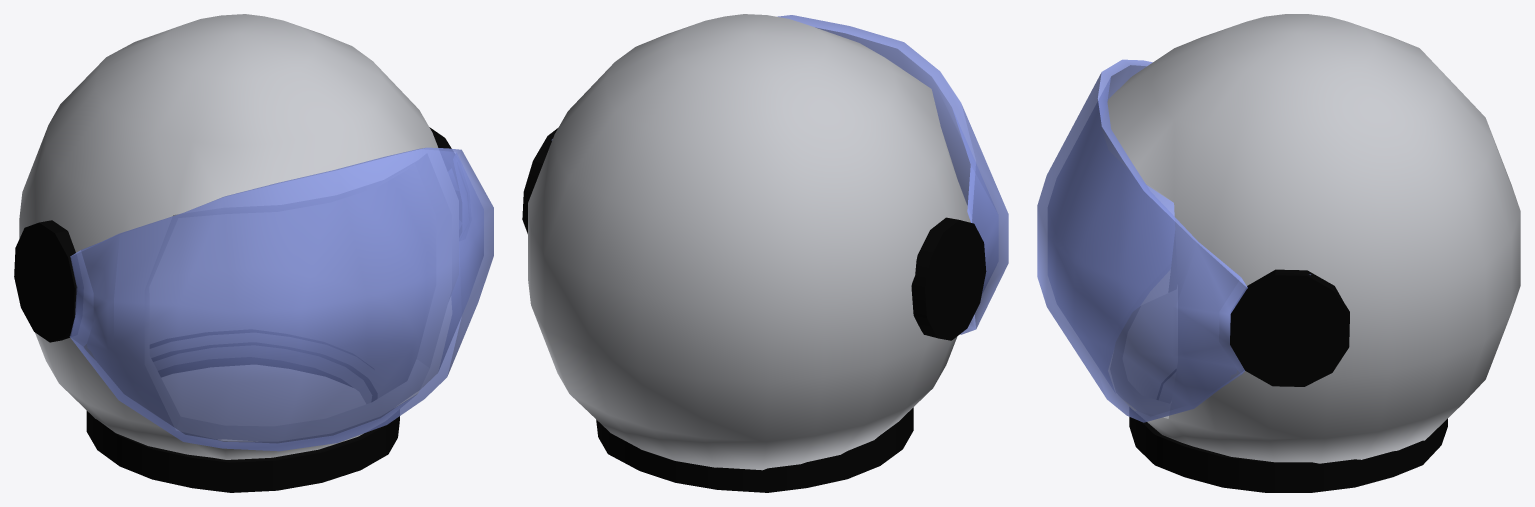
Rendered from CU_SpaceHelm.fbx.
The picture shows the model from 3 angles, left to right: view 1: azimuth 30°, elevation 25°; view 2: azimuth 150°, elevation 25°; view 3: azimuth 270°, elevation 25°; orthographic projection.
Parts seen in each view (by area): view 1: SpaceHelmVisor, SpaceHelmBase, SpaceHelmAcc; view 2: SpaceHelmBase, SpaceHelmAcc, SpaceHelmVisor; view 3: SpaceHelmBase, SpaceHelmVisor, SpaceHelmAcc.
Boxes of the visible parts, box(x1,y1,x2,y2) form: SpaceHelmVisor: box(69, 147, 493, 451); SpaceHelmBase: box(19, 14, 438, 459); SpaceHelmAcc: box(14, 127, 451, 492); SpaceHelmBase: box(528, 14, 970, 470); SpaceHelmAcc: box(522, 128, 986, 492); SpaceHelmVisor: box(552, 15, 1008, 334); SpaceHelmBase: box(1107, 14, 1520, 463); SpaceHelmVisor: box(1037, 59, 1310, 422); SpaceHelmAcc: box(1129, 269, 1447, 492).
Size of the model in its own units: 153 by 140 by 157.
